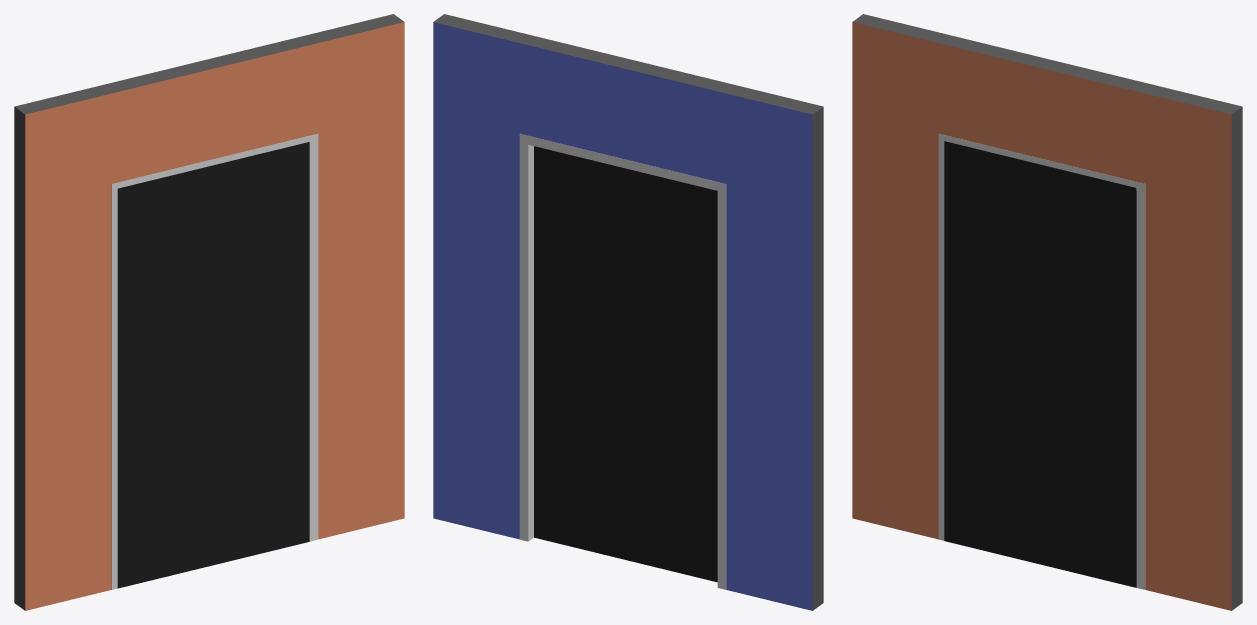
File: Walls.fbx
3 views of the same model, side by side, from view 1: azimuth 30°, elevation 25°; view 2: azimuth 150°, elevation 25°; view 3: azimuth 330°, elevation 25° (orthographic).
Visible parts, largest first — view 1: Wall, Door_simple, Door_frame_simple; view 2: Wall, Door_simple, Door_frame_simple; view 3: Wall, Door_simple, Door_frame_simple.
Part boxes in pixels (<box>): Wall: <box>14,14,404,610</box>; Door_simple: <box>117,142,309,588</box>; Door_frame_simple: <box>111,133,318,589</box>; Wall: <box>433,14,823,610</box>; Door_simple: <box>534,146,717,582</box>; Door_frame_simple: <box>519,133,726,589</box>; Wall: <box>852,14,1242,610</box>; Door_simple: <box>944,141,1136,587</box>; Door_frame_simple: <box>938,133,1145,589</box>.
Bounding box in the file's own units: 200 × 250 × 10.3.
